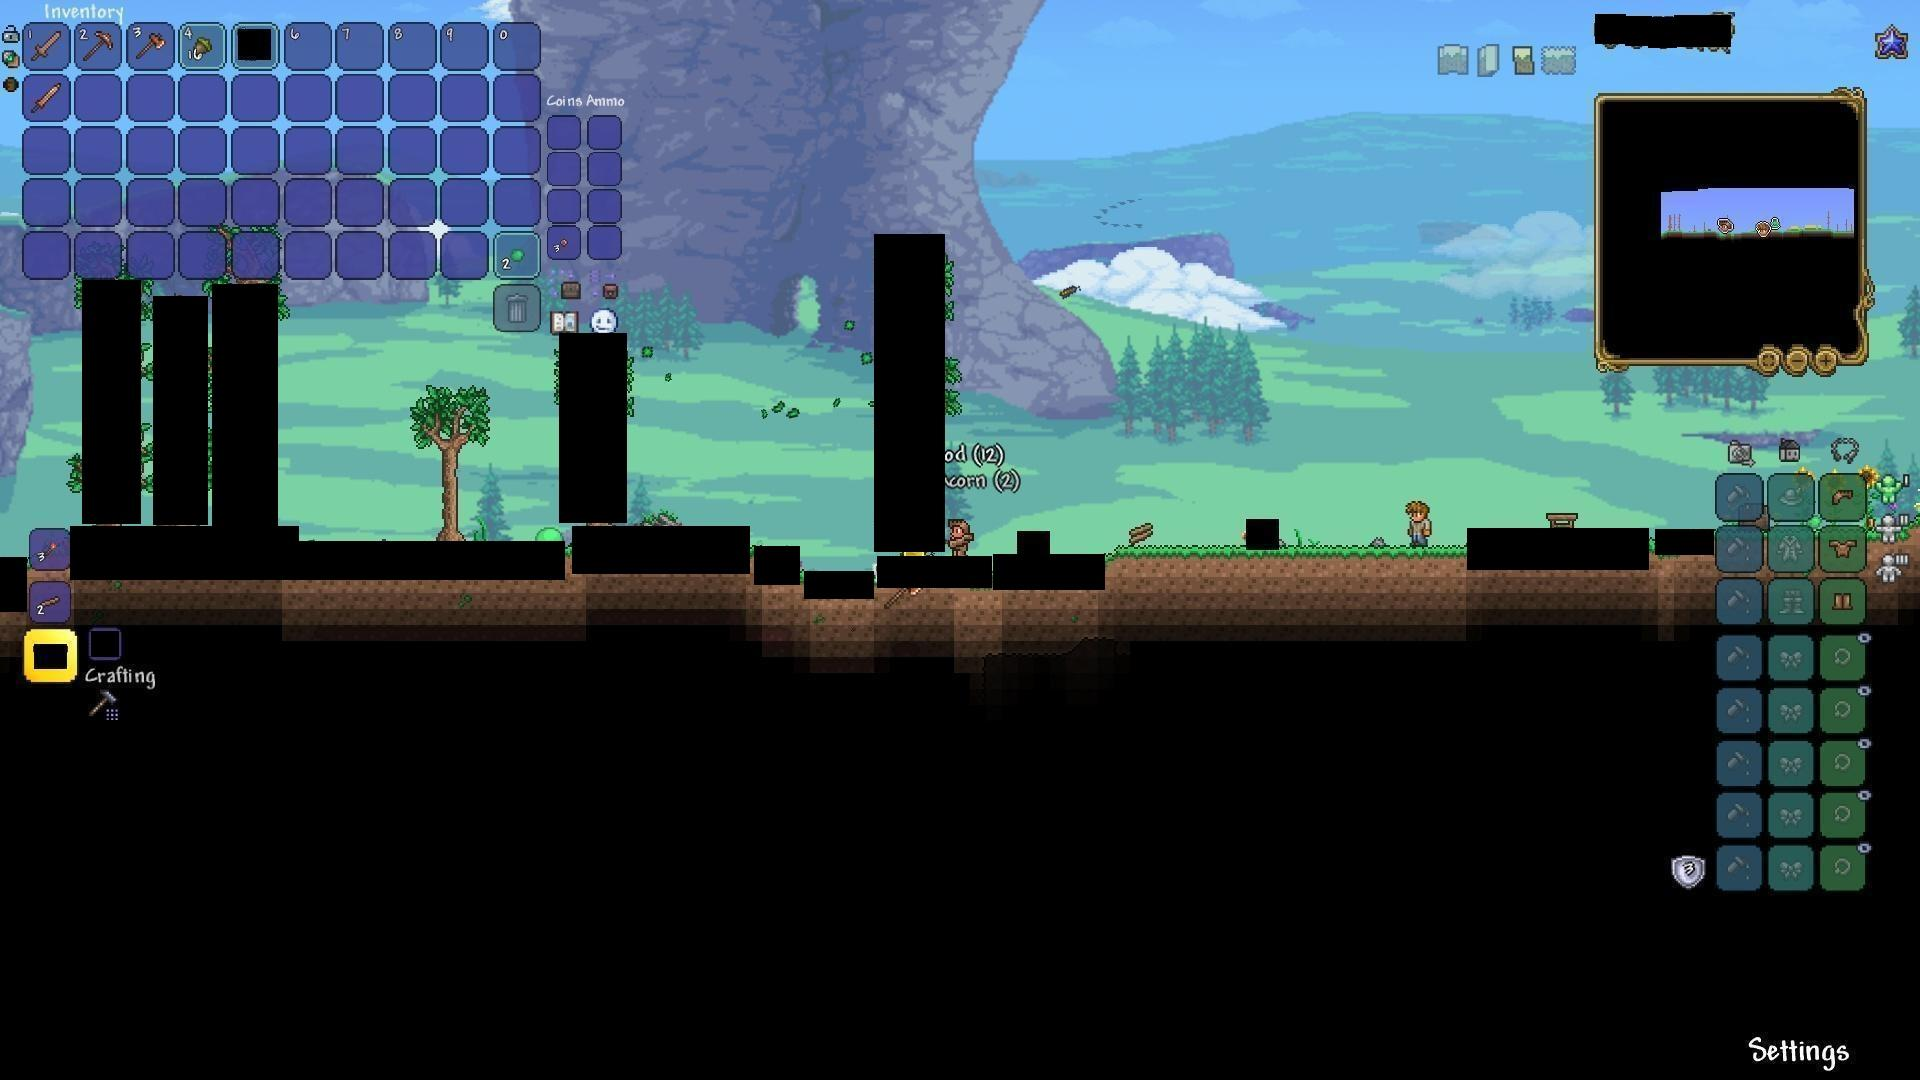breastplate: (1830, 538, 1859, 559)
dirt: (1105, 545, 1464, 583)
helmet: (1829, 484, 1858, 510)
legs: (1832, 588, 1855, 616)
slime: (535, 525, 562, 547)
tree: (411, 372, 487, 538)
wood: (1126, 520, 1158, 550)
workbench: (1543, 508, 1580, 533)
